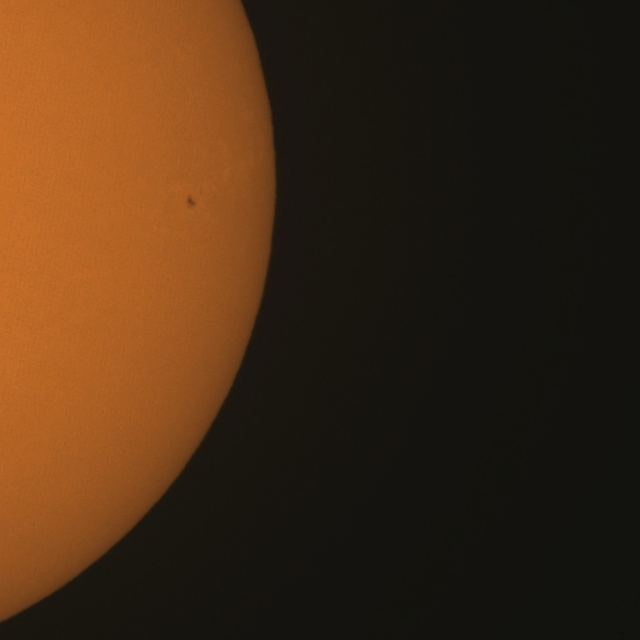sunspot: (185, 194, 197, 209)
